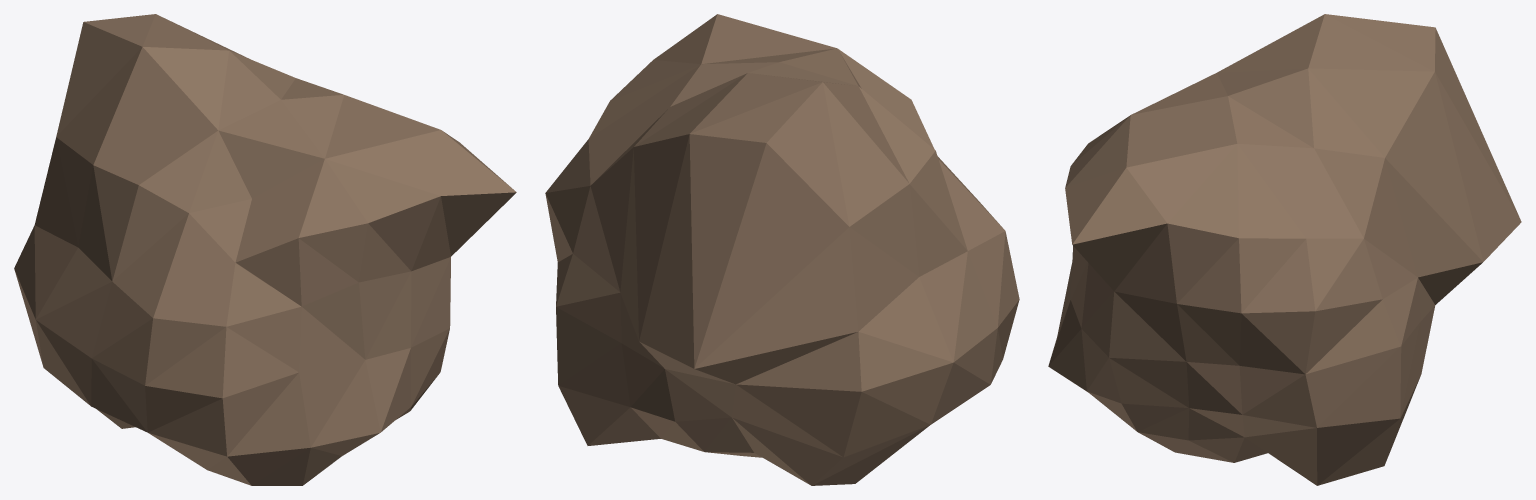
Rendered from rock2.fbx.
3 renders of one model, left to right at view 1: azimuth 30°, elevation 25°; view 2: azimuth 150°, elevation 25°; view 3: azimuth 270°, elevation 25°, orthographic. The views are drawn at different scales.
Visible parts, largest first — view 1: Rock1; view 2: Rock1; view 3: Rock1.
Boxes of the visible parts, x1=… form: Rock1: x1=14, y1=14, x2=516, y2=485; Rock1: x1=545, y1=14, x2=1019, y2=485; Rock1: x1=1048, y1=14, x2=1521, y2=485.
Size of the model in its own units: 472 by 480 by 517.
